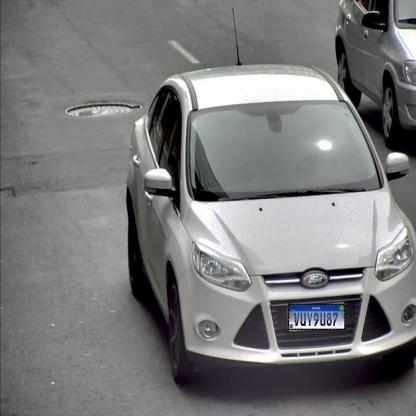PlacaM: (288, 304, 345, 330)
